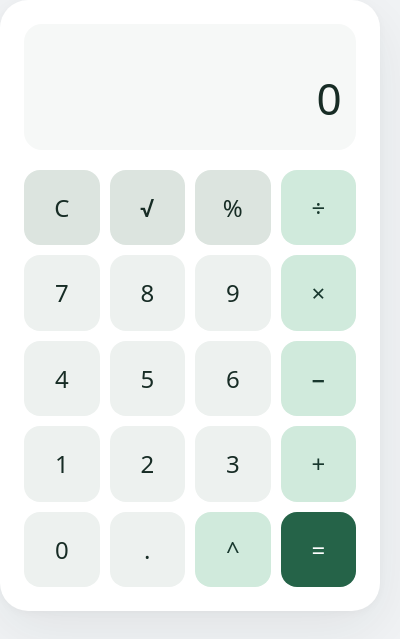
Test: UI6 square root
Click the button "9" at (233, 293), box left=195, top=255, right=270, bottom=331
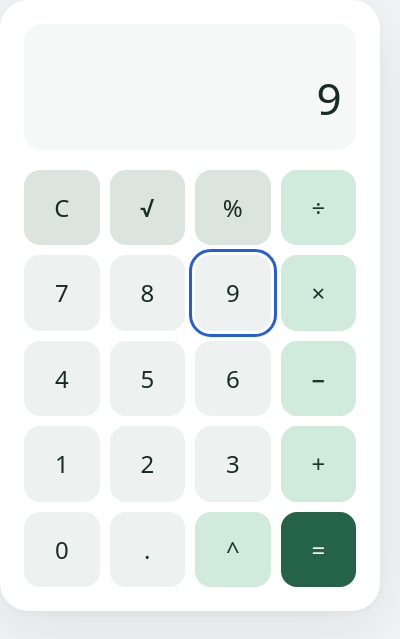
Click the button named "Square root" at (147, 207), box left=110, top=170, right=185, bottom=245
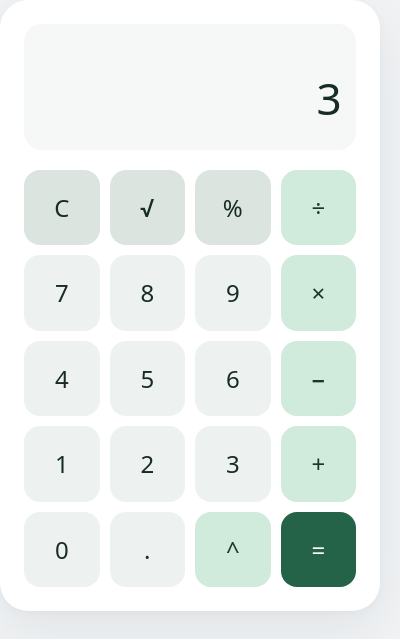
Expected: the message reads "3", left=317, top=68, right=340, bottom=128
